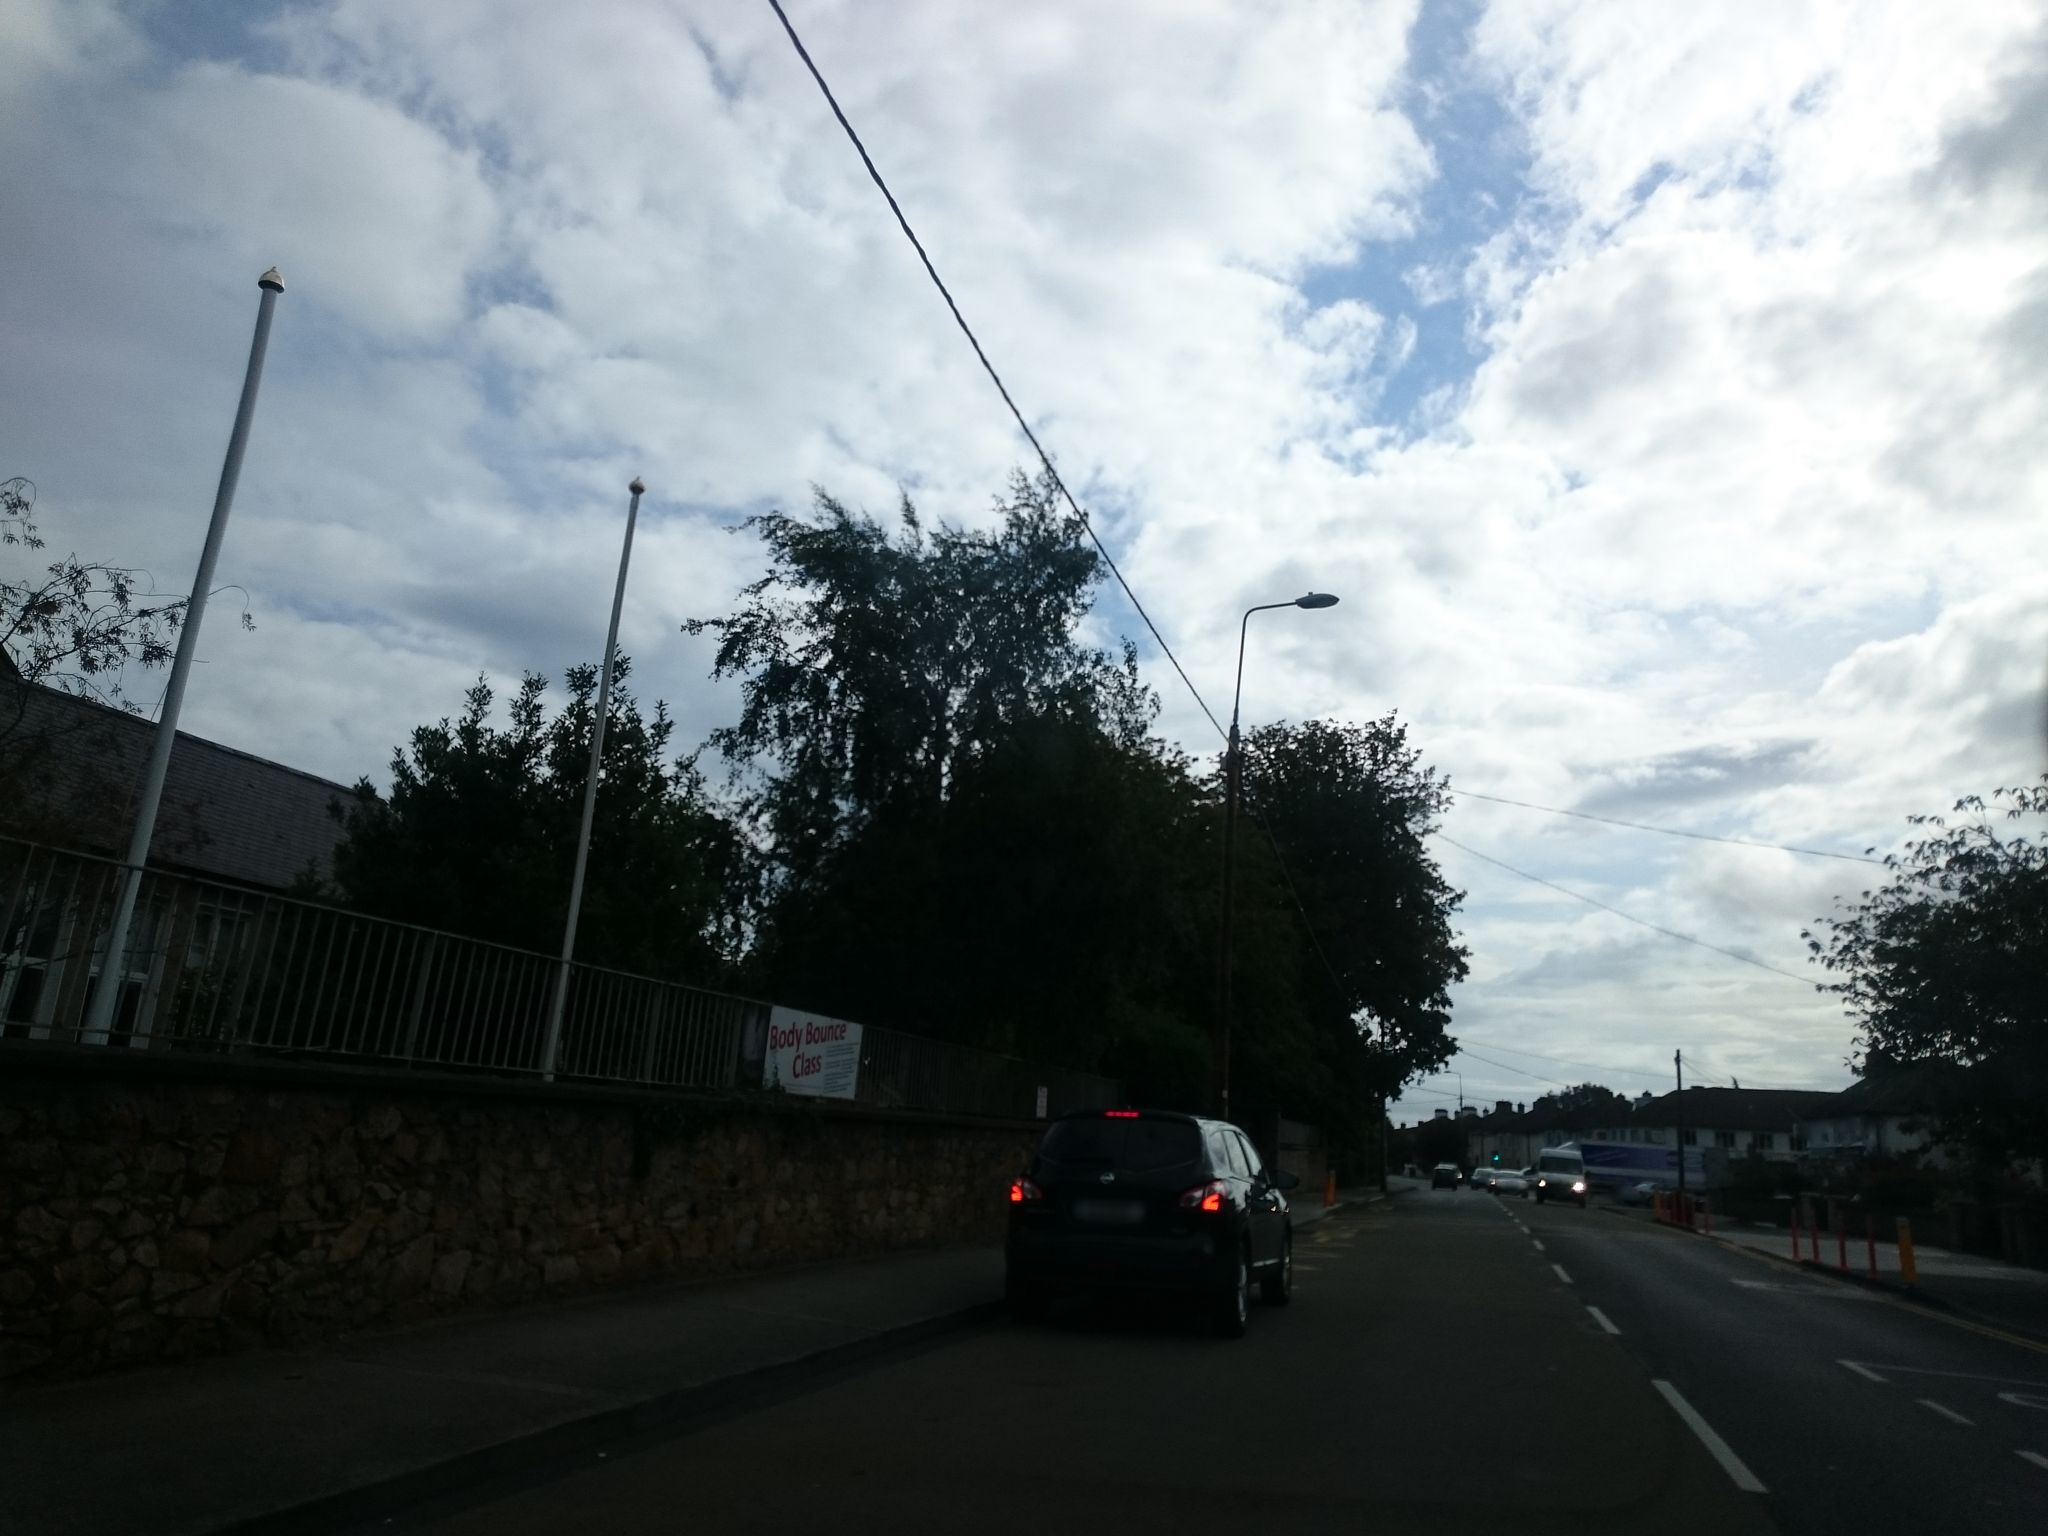vinyl banner: (711, 984, 879, 1118)
